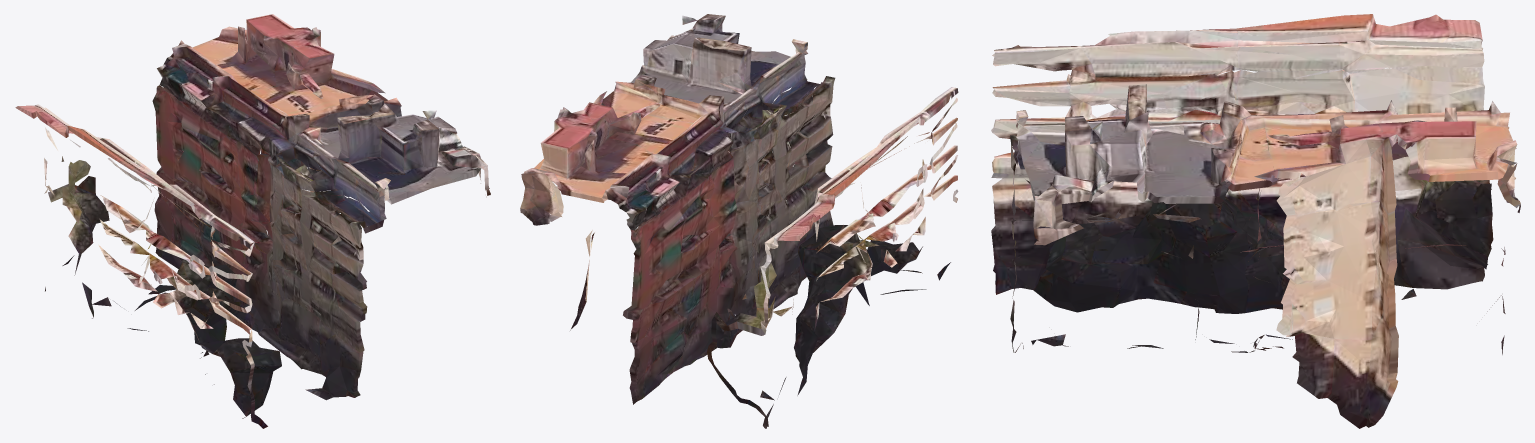
3 views of the same model, side by side, from view 1: azimuth 30°, elevation 25°; view 2: azimuth 150°, elevation 25°; view 3: azimuth 270°, elevation 25° (orthographic). The views are drawn at different scales.
Visible parts, largest first — view 1: Mesh_0; view 2: Mesh_0; view 3: Mesh_0.
Boxes of the visible parts, left/top/right/bottom form: Mesh_0: left=15, top=14, right=490, bottom=428; Mesh_0: left=520, top=14, right=958, bottom=428; Mesh_0: left=991, top=14, right=1520, bottom=428.
Size of the model in its own units: 33.5 by 25.73 by 41.47.
1 material, 1 textured.
